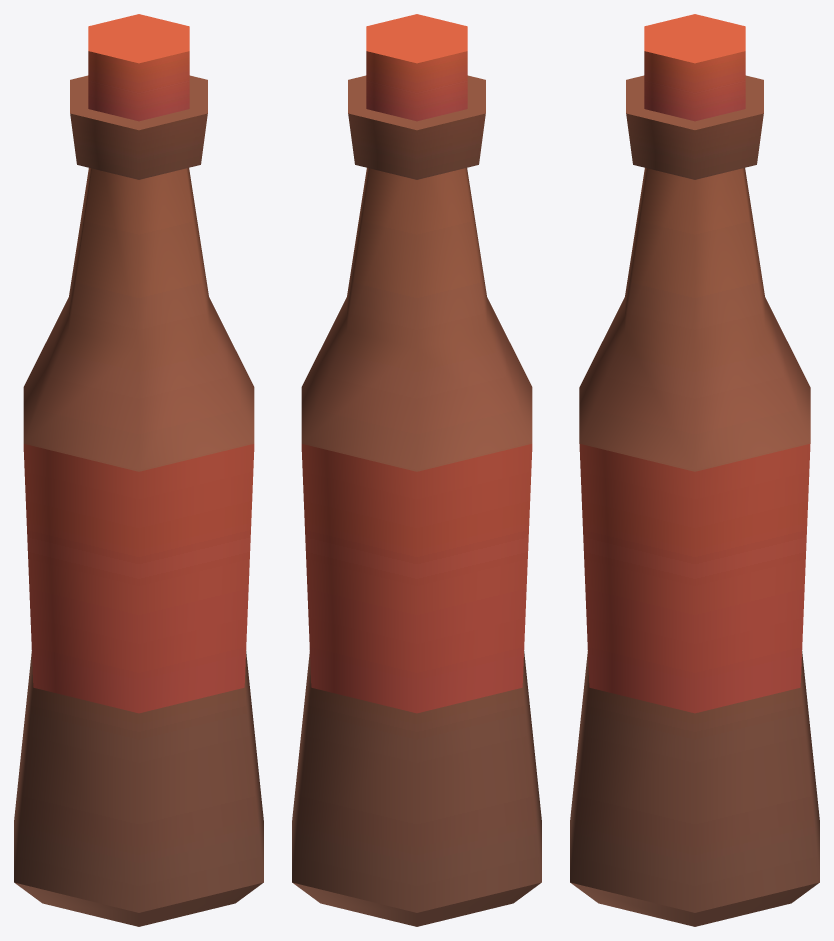
Rendered from soda-bottle.glb.
3 renders of one model, left to right at view 1: azimuth 30°, elevation 25°; view 2: azimuth 150°, elevation 25°; view 3: azimuth 270°, elevation 25°, orthographic.
Visible parts, largest first — view 1: soda-bottle; view 2: soda-bottle; view 3: soda-bottle.
Boxes of the visible parts, box(x1,y1,x2,y2) form: soda-bottle: box(14, 14, 263, 926); soda-bottle: box(292, 14, 541, 926); soda-bottle: box(570, 14, 819, 926).
Bounding box in the file's own units: 0.1805 × 0.5804 × 0.1563.
Materials: 1 (1 with a texture image).
